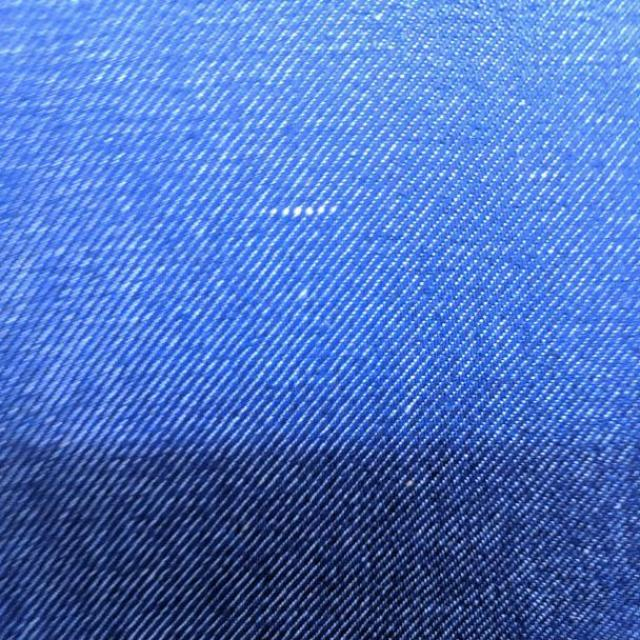Knot: (261, 201, 339, 218)
